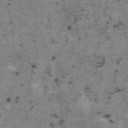oxide scale of temperature system: (83, 52, 123, 124), (66, 12, 124, 41), (42, 56, 72, 92), (14, 50, 36, 76), (5, 96, 36, 112), (48, 112, 66, 128), (50, 38, 56, 46), (7, 0, 12, 6)
